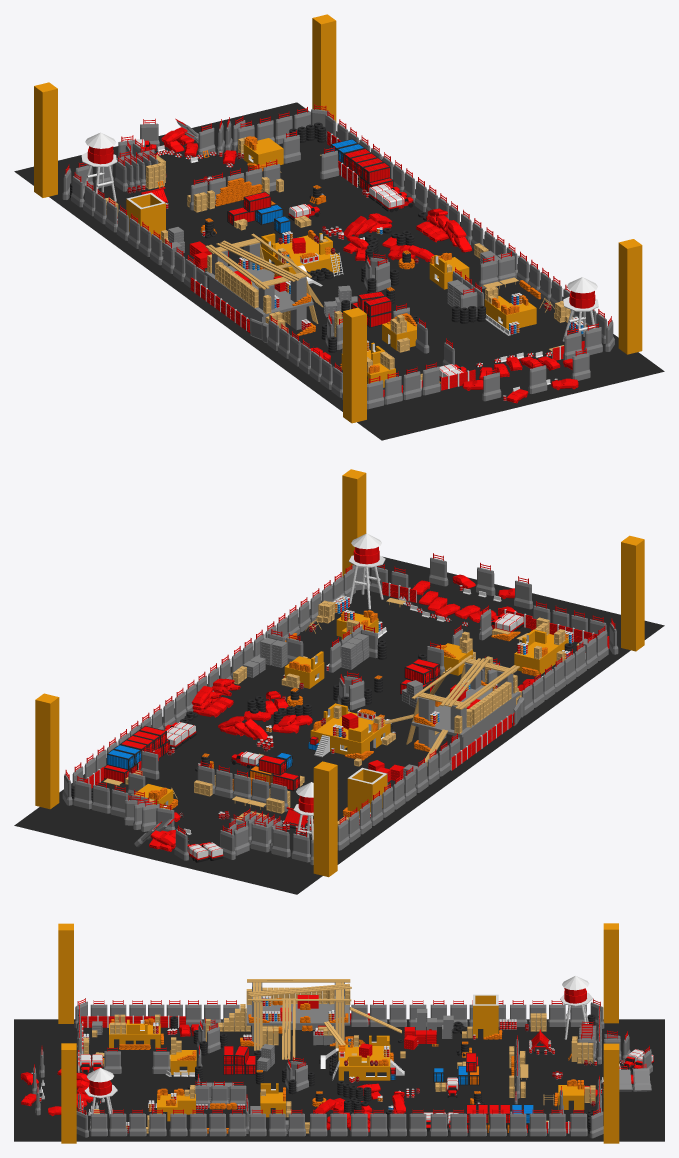
The model's file is map3.glb.
3 renders of one model, top to bottom at view 1: azimuth 30°, elevation 25°; view 2: azimuth 150°, elevation 25°; view 3: azimuth 270°, elevation 25°, orthographic. The views are drawn at different scales.
Visible parts, largest first — view 1: PLANE_0, Cube.050_1004, Cube.206_1002, Cube.207_1003, Cube.191_1000, Cube.201_1001, tower.001_46, tower.002_47, Room.022_118, Cube.002_1, Room.024_251, Room.025_481 (+2 smaller); view 2: PLANE_0, Cube.050_1004, Cube.191_1000, Cube.201_1001, Cube.207_1003, Cube.206_1002, Cube.002_1, tower.002_47, Room.022_118, Room.023_225, barricade.089_1015, tower.001_46 (+1 smaller); view 3: PLANE_0, Cube.201_1001, Cube.050_1004, Cube.206_1002, Cube.207_1003, Cube.191_1000, Cube.002_1, Room.022_118, tower.001_46, tower.002_47, Room.023_225, Room.024_251 (+44 smaller).
Part boxes in pixels (left/top/right/bottom): PLANE_0: left=14, top=102, right=664, bottom=440; Cube.050_1004: left=204, top=243, right=313, bottom=330; Cube.206_1002: left=618, top=239, right=642, bottom=354; Cube.207_1003: left=343, top=307, right=366, bottom=423; Cube.191_1000: left=34, top=82, right=57, bottom=197; Cube.201_1001: left=312, top=14, right=336, bottom=122; tower.001_46: left=81, top=132, right=116, bottom=201; tower.002_47: left=562, top=277, right=598, bottom=341; Room.022_118: left=126, top=192, right=165, bottom=239; Cube.002_1: left=261, top=235, right=339, bottom=274; Room.024_251: left=484, top=296, right=536, bottom=329; Room.025_481: left=243, top=138, right=283, bottom=165; PLANE_0: left=14, top=556, right=664, bottom=894; Cube.050_1004: left=411, top=663, right=520, bottom=750; Cube.191_1000: left=313, top=761, right=337, bottom=877; Cube.201_1001: left=35, top=693, right=59, bottom=809; Cube.207_1003: left=621, top=535, right=644, bottom=651; Cube.206_1002: left=342, top=469, right=366, bottom=577; Cube.002_1: left=310, top=711, right=390, bottom=754; tower.002_47: left=348, top=533, right=385, bottom=609; Room.022_118: left=347, top=767, right=387, bottom=815; Room.023_225: left=514, top=634, right=568, bottom=674; barricade.089_1015: left=337, top=671, right=365, bottom=710; tower.001_46: left=293, top=782, right=313, bottom=839; PLANE_0: left=14, top=1019, right=664, bottom=1141; Cube.201_1001: left=603, top=1043, right=619, bottom=1143; Cube.050_1004: left=246, top=982, right=349, bottom=1043; Cube.206_1002: left=61, top=1043, right=76, bottom=1143; Cube.207_1003: left=58, top=923, right=73, bottom=1023; Cube.191_1000: left=603, top=923, right=618, bottom=1023; Cube.002_1: left=338, top=1044, right=390, bottom=1080; Room.022_118: left=473, top=994, right=498, bottom=1038; tower.001_46: left=560, top=976, right=592, bottom=1039; tower.002_47: left=84, top=1068, right=117, bottom=1131; Room.023_225: left=109, top=1023, right=160, bottom=1048; Room.024_251: left=157, top=1094, right=195, bottom=1121.
Size of the model in its own units: 116 by 42.08 by 252.
